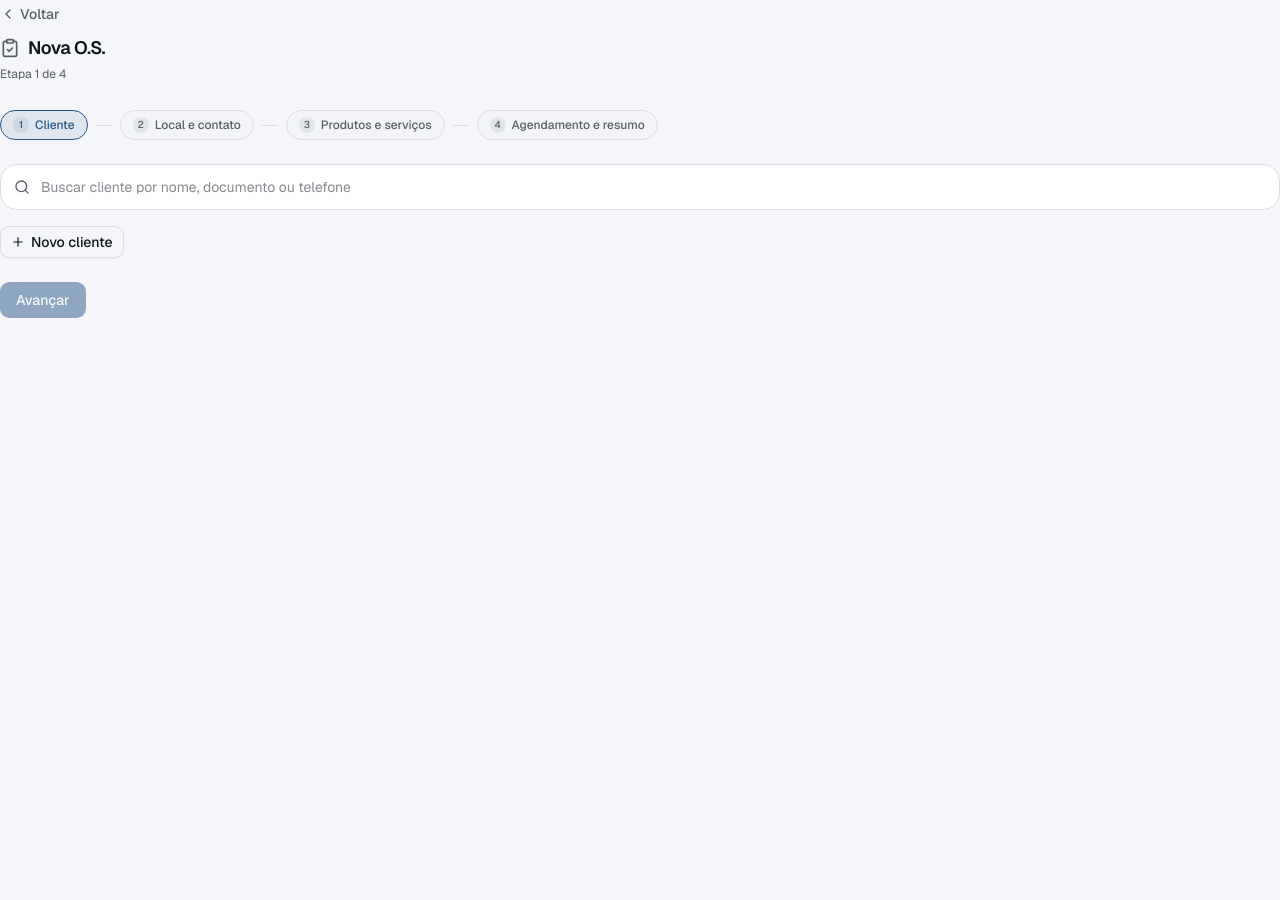
Scenario: ServiceOrderWizard › W2: quick-creating a customer selects it and enables advancing to step 2
Click the button "Novo cliente": (62,242) [0, 226, 124, 258]
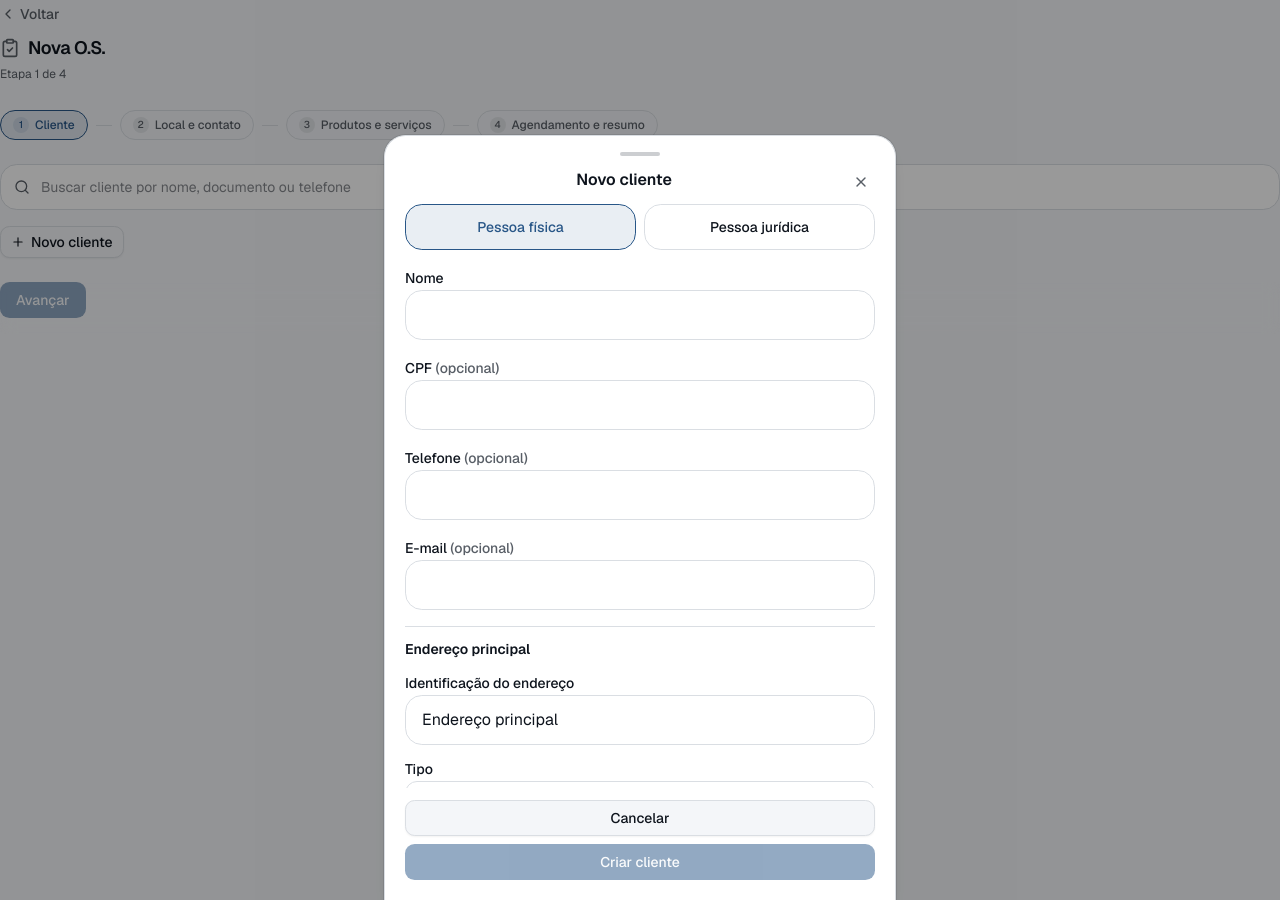
In the field labelled "Nome": (640,315) [405, 290, 875, 340], type "Cliente Teste"
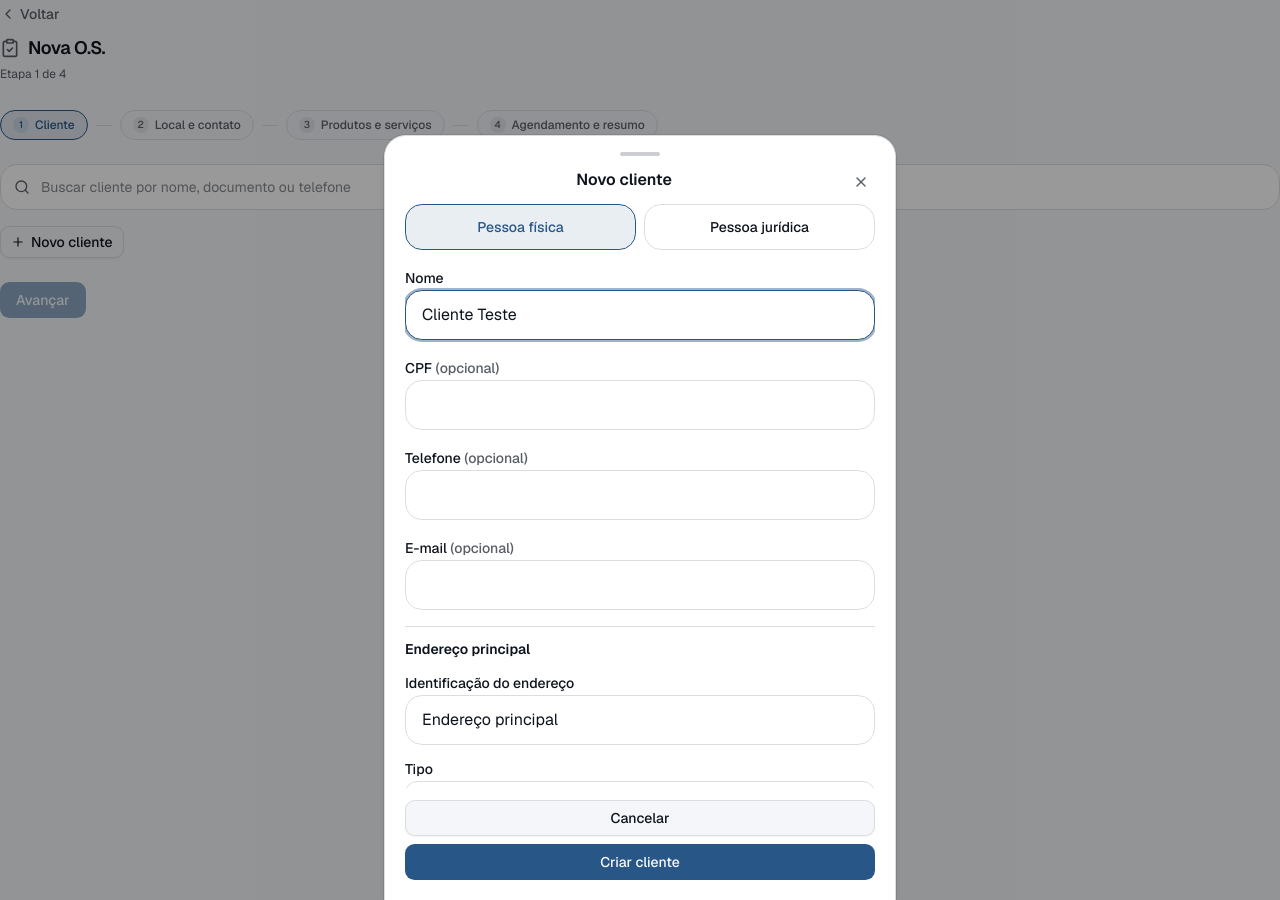
Click the button "Criar cliente": (640,862) [405, 844, 875, 880]
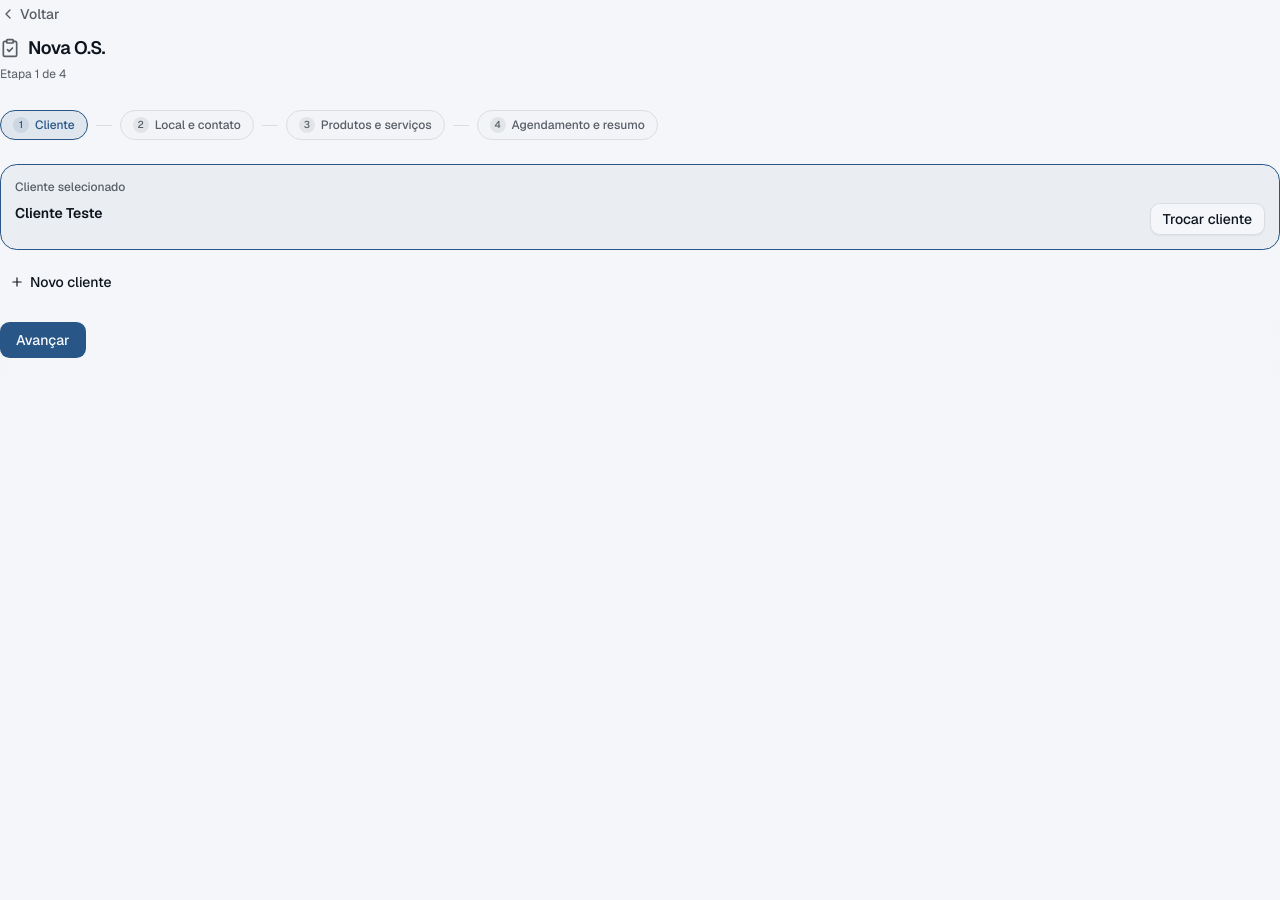
Expected: the text "Cliente Teste" is shown, [15, 203, 103, 223]
Click the button "Avançar": (43,340) [0, 322, 86, 358]
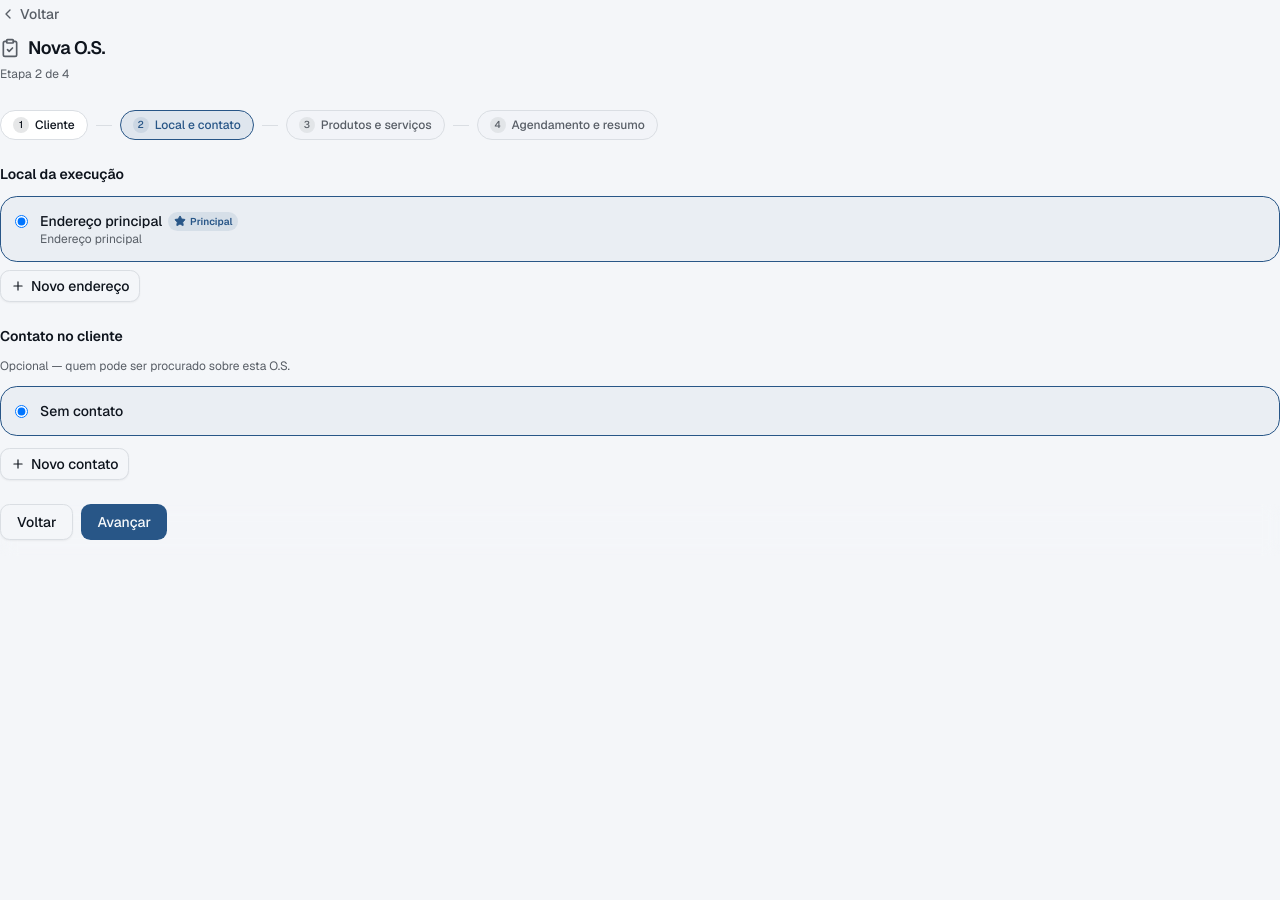
Expected: the text "Etapa 2 de 4" is shown, [0, 66, 69, 82]
